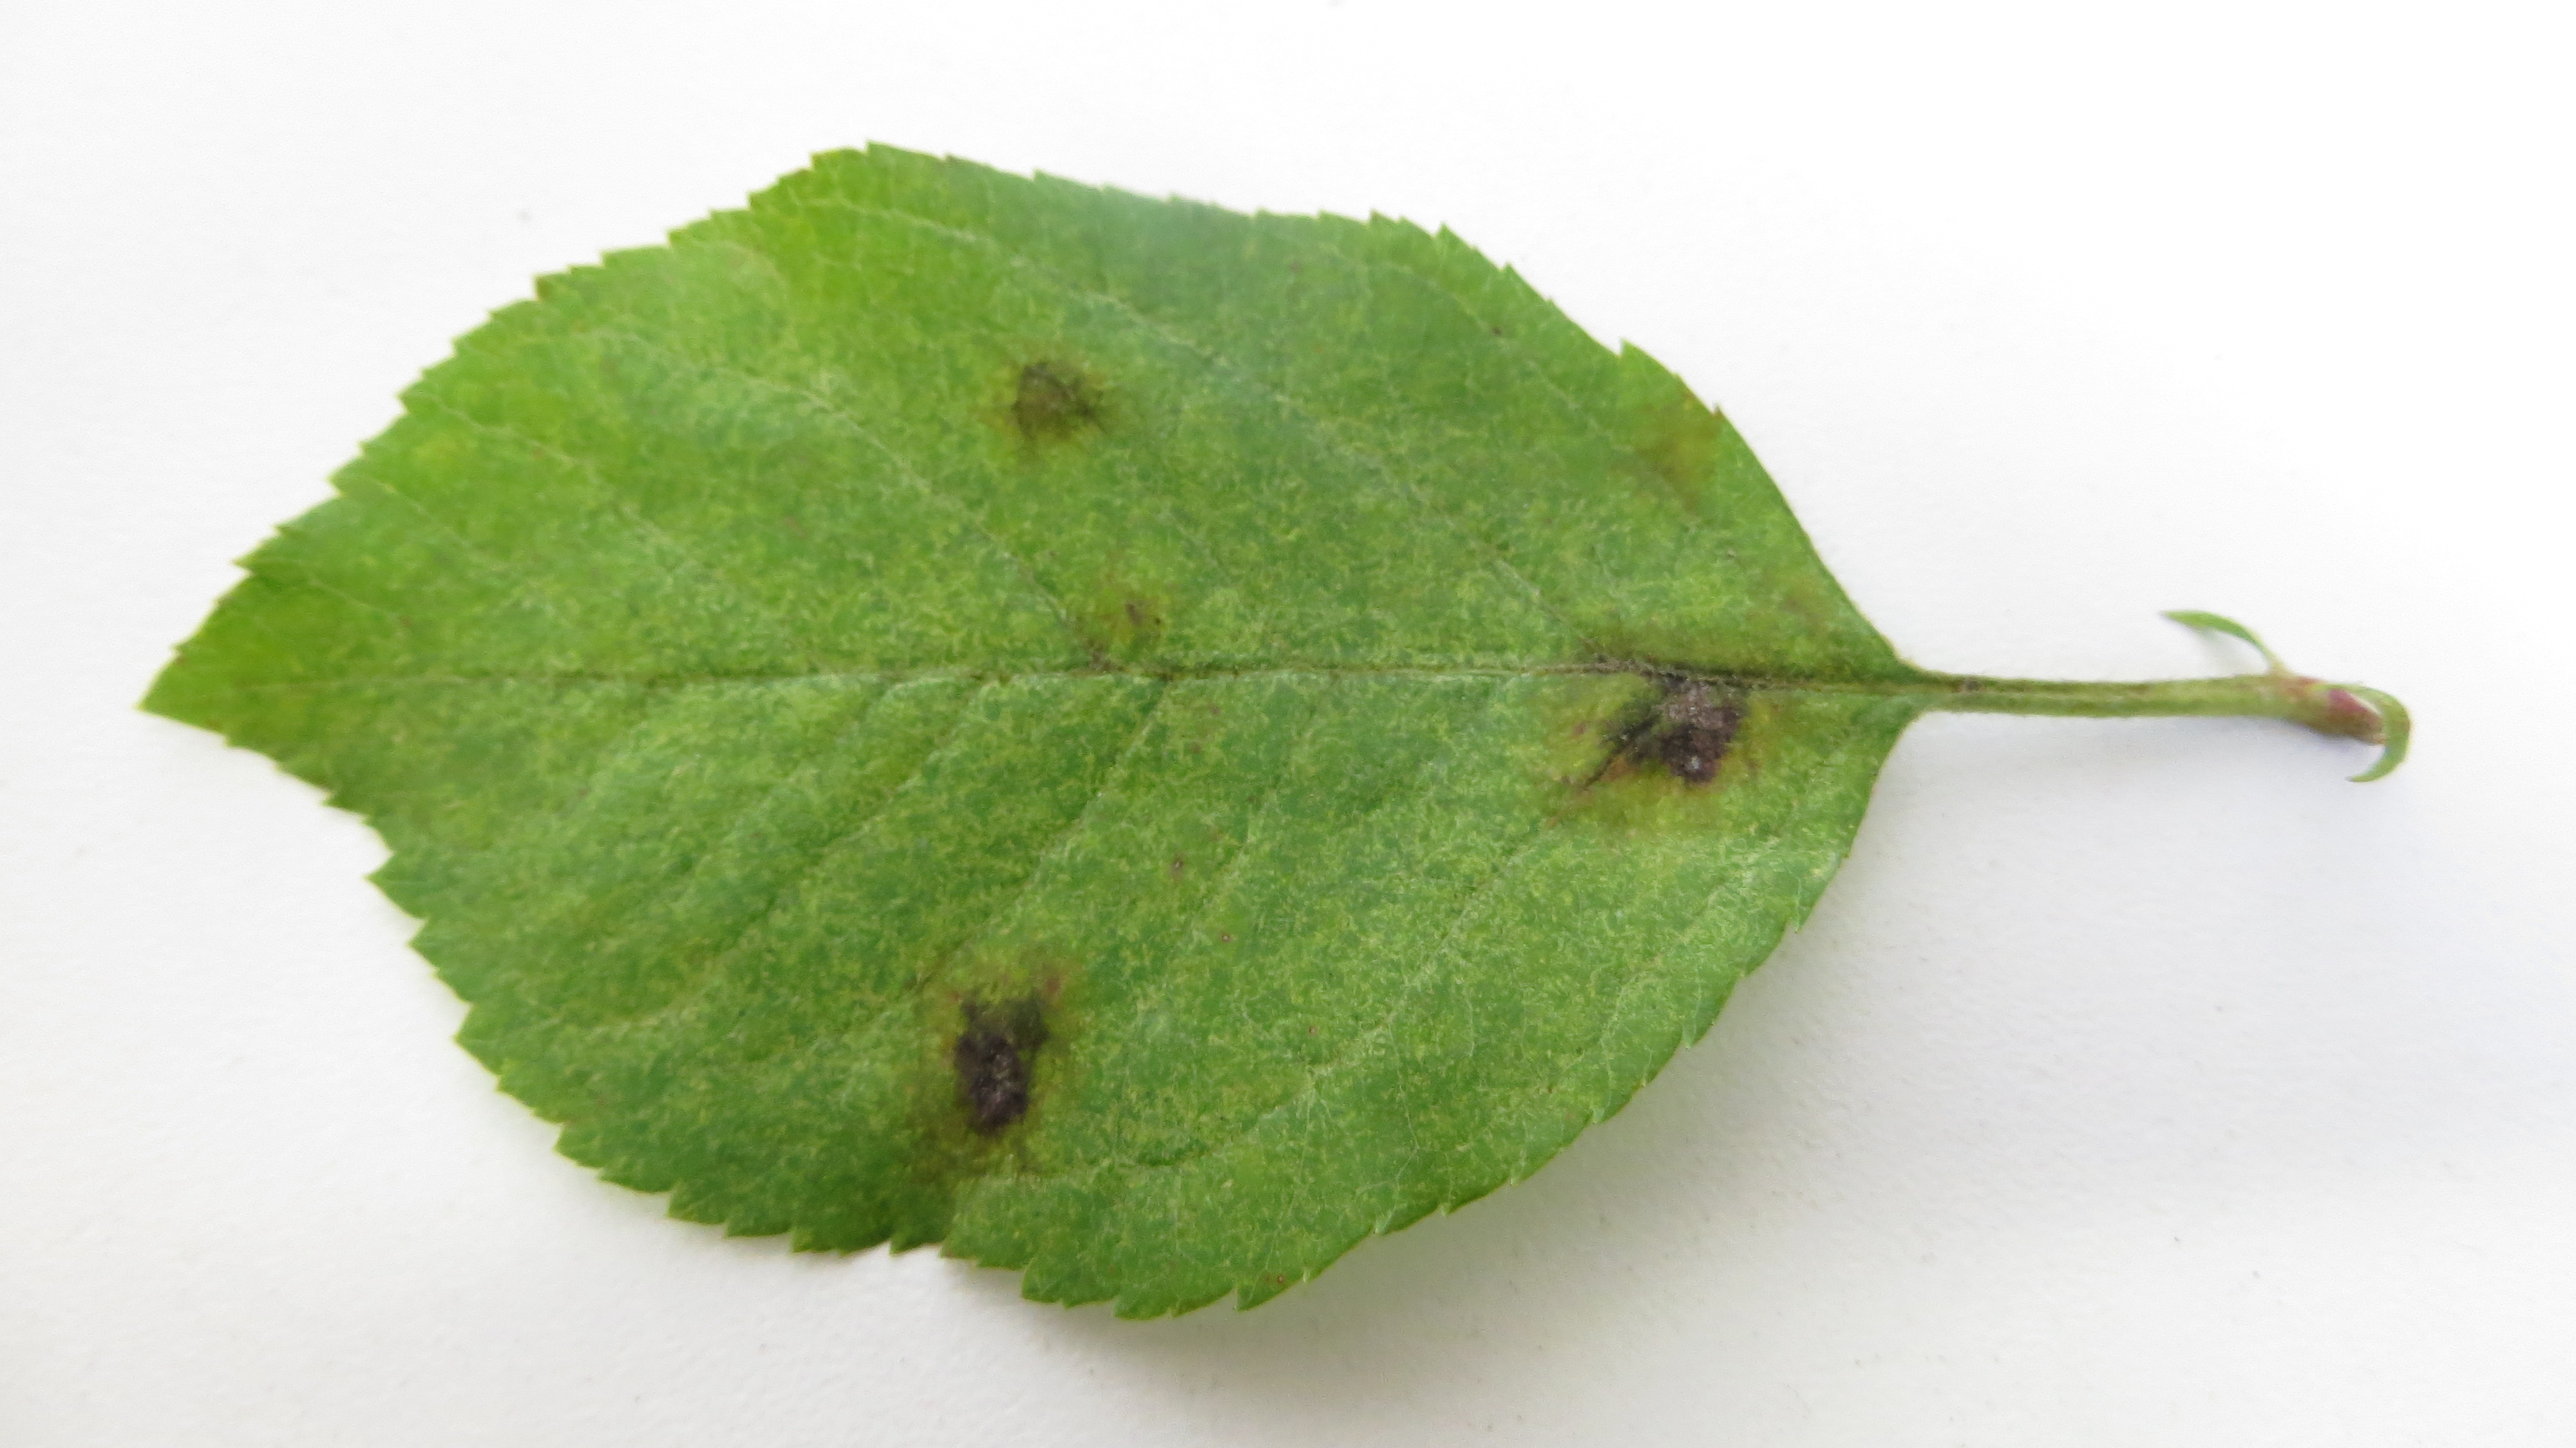sarna: (901, 942, 1077, 1200), (1553, 623, 1764, 816), (1056, 565, 1200, 706), (1596, 386, 1727, 531), (998, 333, 1120, 455), (1766, 551, 1836, 641)
